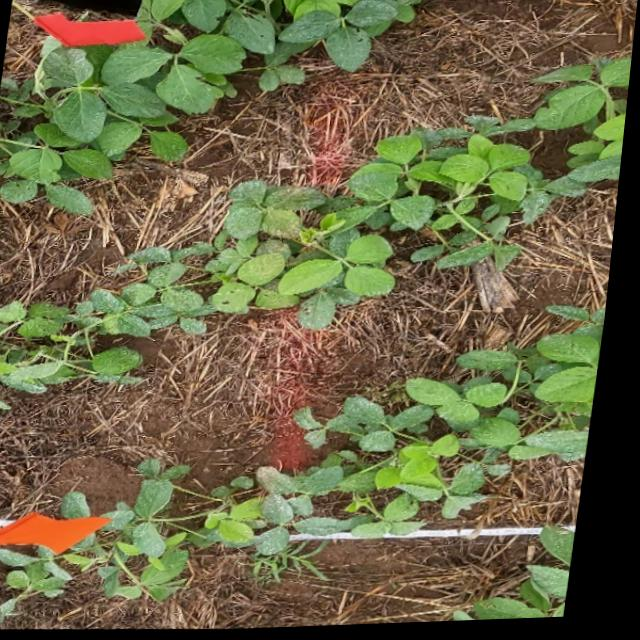soy_plant: (0, 62, 633, 409), (0, 315, 612, 629), (0, 0, 420, 214), (469, 570, 582, 625), (554, 532, 586, 572)
